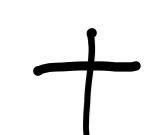plus: (33, 28, 141, 135)
